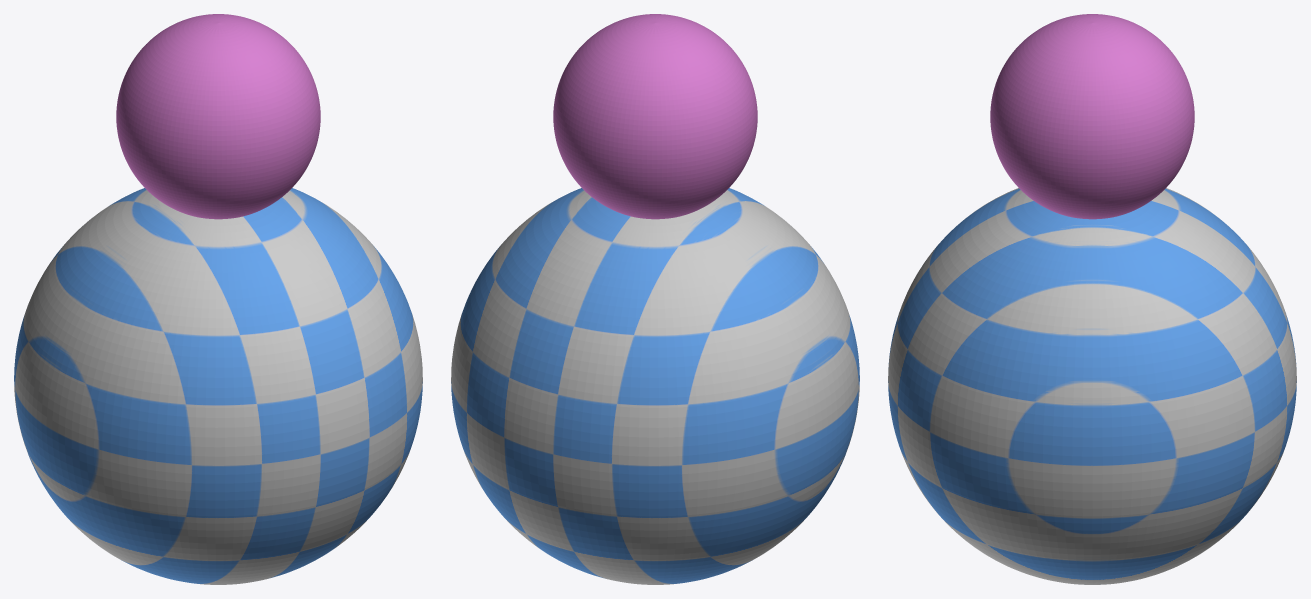
Rendered from BOD0_BMC1_BCC13_BPT4_FRC0_HEA0_HMC10_HCC0_HPT0_ELT0_ERT0_ELL0_ERL0_AP0_AAL0_AAR0_BEK0.fbx.
The picture shows the model from 3 angles, left to right: view 1: azimuth 30°, elevation 25°; view 2: azimuth 150°, elevation 25°; view 3: azimuth 270°, elevation 25°; orthographic projection.
Visible parts, largest first — view 1: Body, Head; view 2: Body, Head; view 3: Body, Head.
Part boxes in pixels (x1,y1,x2,y2): Body: [14, 188, 422, 584]; Head: [116, 14, 320, 219]; Body: [451, 188, 859, 584]; Head: [553, 14, 757, 219]; Body: [888, 188, 1296, 584]; Head: [990, 14, 1194, 219].
Bounding box in the file's own units: 98.72 × 145 × 98.72.
Materials: 2 (2 with a texture image).
